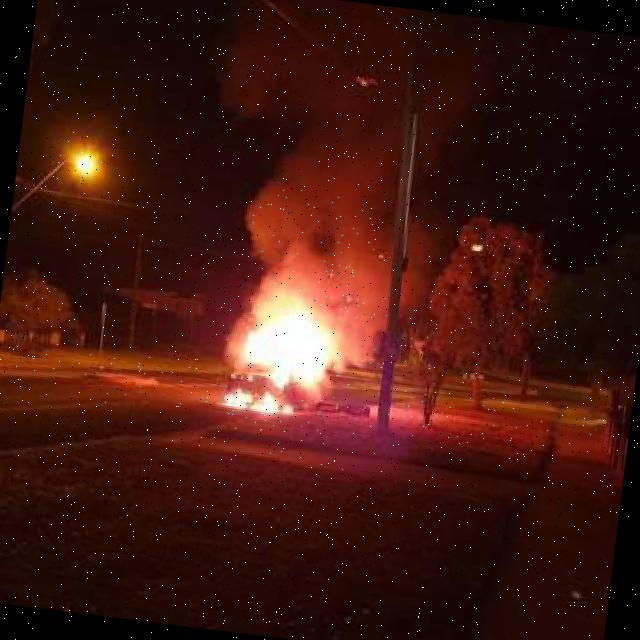fire: (214, 187, 413, 440)
